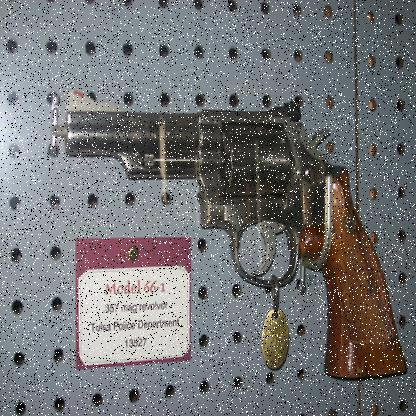pistol: (66, 95, 409, 379)
